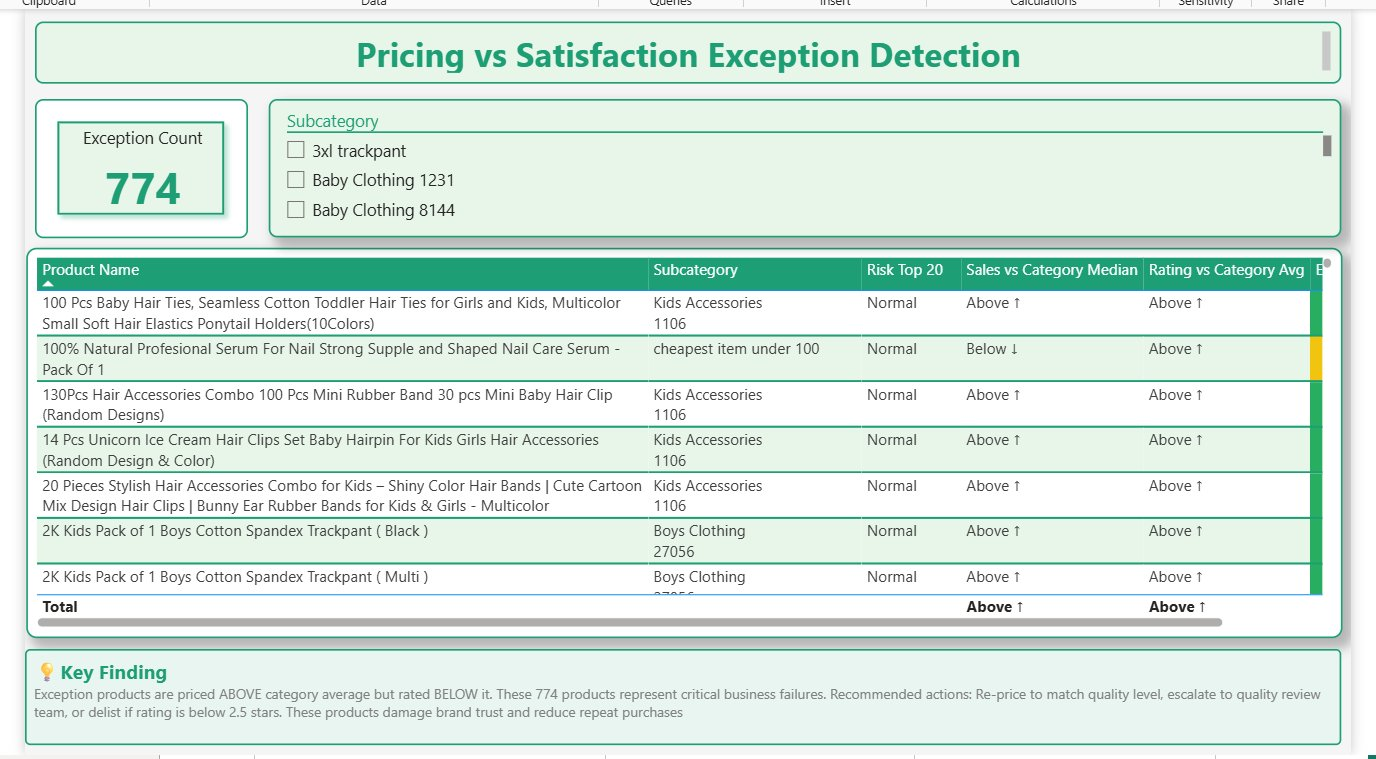

What the dashboard file says about the page in this screenshot:
{"tool":"powerbi","page":{"name":"[Page 2] Pricing vs Satisfaction Exception Detection","canvas":[1280,720],"ordinal":1},"visuals":[{"type":"cardVisual","fields":{"Data":["snapdeal_products.Exception Count"]},"box":[9.8,86.8,205.4,134.5],"z":0},{"type":"tableEx","fields":{"Values":["snapdeal_products.Product Name","snapdeal_products.Subcategory","snapdeal_products.Risk Top 20","snapdeal_products.Sales vs Category Median","snapdeal_products.Rating vs Category Avg","snapdeal_products.Exception Score"]},"box":[1.2,230.4,1270.4,376.4],"z":1000},{"type":"slicer","fields":{"Values":["snapdeal_products.Subcategory"]},"box":[235.3,86.9,1035.1,133.9],"z":2000},{"type":"textbox","box":[0,617.7,1270.4,92.9],"z":3000},{"type":"textbox","box":[9.7,12.1,1260.7,60.3],"z":4000}]}

Visuals, with their boxes in screenshot pixels (x1, y1, x2, y2):
cardVisual - snapdeal_products.Exception Count: locate(28, 94, 242, 234)
tableEx - snapdeal_products.Product Name x snapdeal_products.Subcategory: locate(19, 243, 1341, 635)
slicer - snapdeal_products.Subcategory: locate(263, 94, 1340, 233)
textbox: locate(18, 646, 1340, 743)
textbox: locate(28, 16, 1340, 79)
